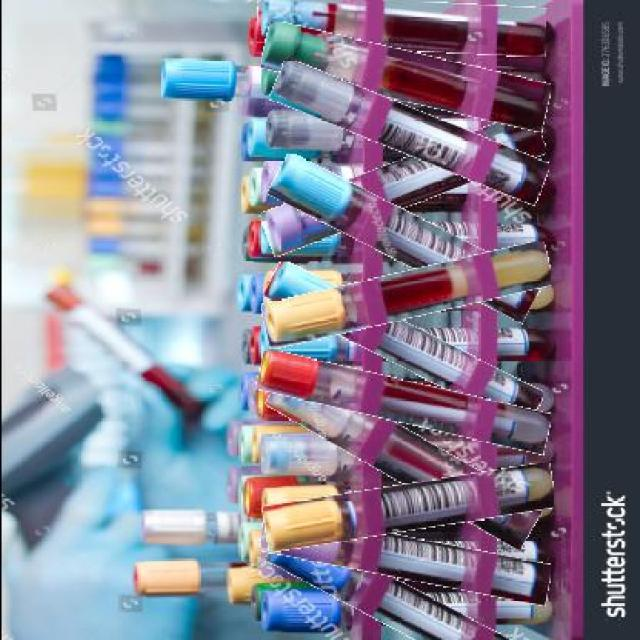Experimental-tube: (260, 396, 546, 516), (258, 292, 547, 398), (264, 183, 545, 292), (257, 134, 548, 232), (267, 84, 550, 179), (258, 554, 548, 638), (259, 36, 550, 116), (259, 255, 552, 333), (255, 366, 551, 440), (258, 523, 551, 592), (261, 472, 553, 540), (256, 1, 546, 54)
